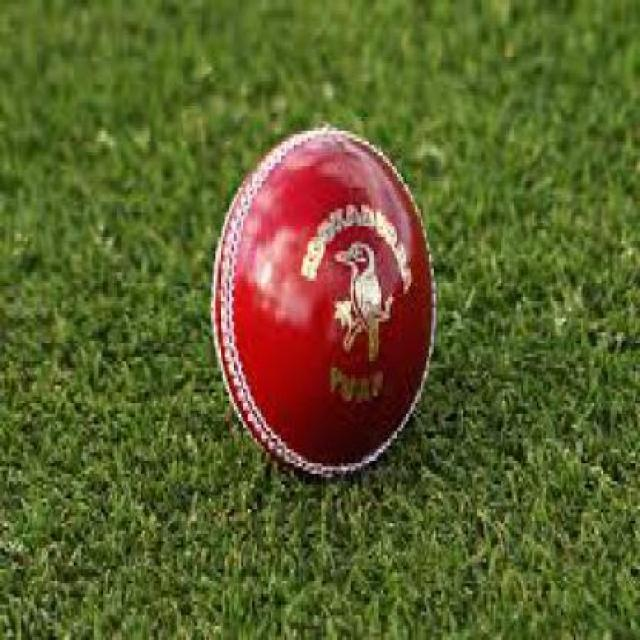ball: (166, 90, 463, 500)
